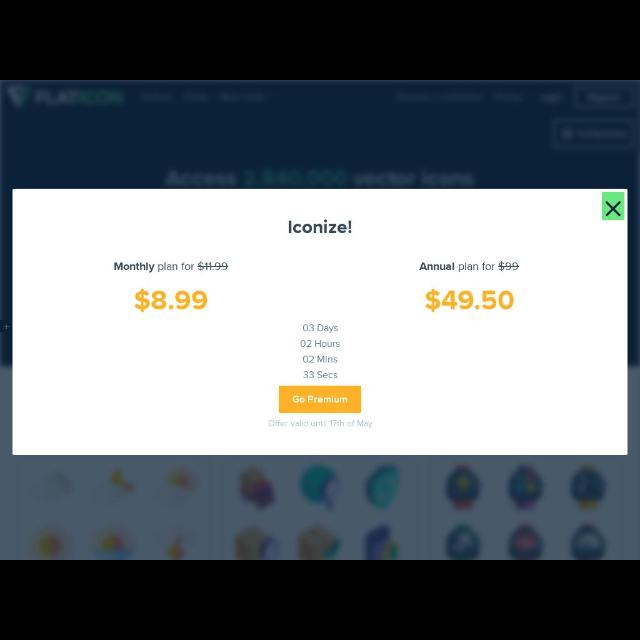backgroundimage: (1, 81, 639, 559)
button: (602, 192, 624, 220)
icon: (604, 200, 622, 218)
panel: (11, 188, 629, 456)
text: (424, 288, 514, 314), (135, 288, 207, 312), (114, 260, 230, 274), (287, 218, 353, 238), (418, 262, 522, 274), (268, 420, 372, 430), (292, 394, 348, 406), (300, 339, 340, 349), (302, 324, 338, 334), (302, 355, 338, 365), (302, 371, 338, 379)
textbutton: (278, 386, 362, 414)
